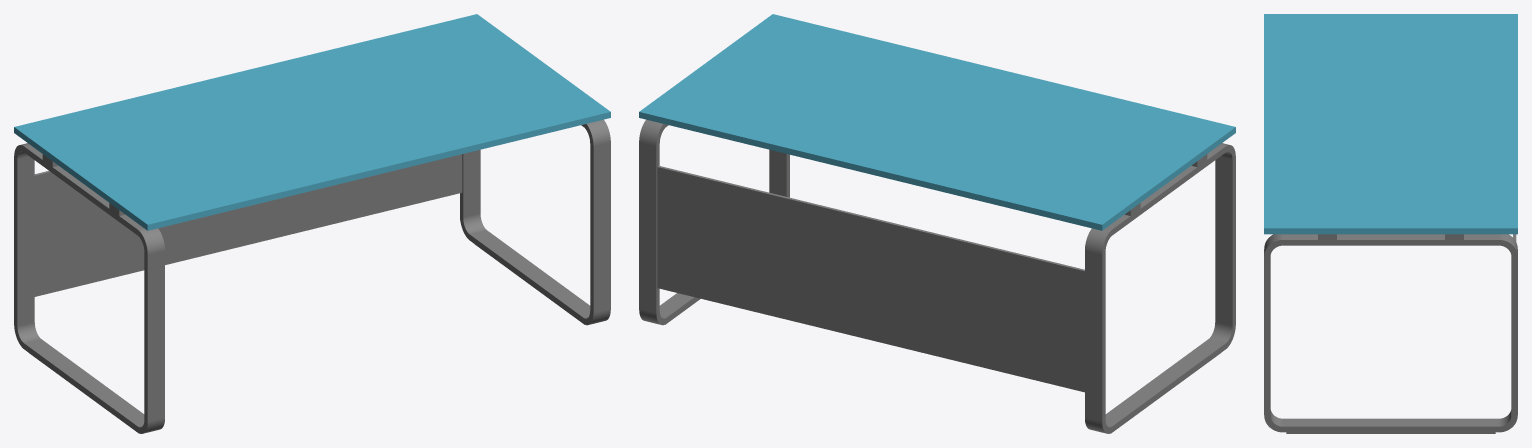
File: legDesk160.fbx
3 views of the same model, side by side, from view 1: azimuth 30°, elevation 25°; view 2: azimuth 150°, elevation 25°; view 3: azimuth 270°, elevation 25° (orthographic). The views are drawn at different scales.
Visible parts, largest first — view 1: legDesk160; view 2: legDesk160; view 3: legDesk160.
Boxes of the visible parts, left/top/right/bottom form: legDesk160: left=14, top=14, right=610, bottom=433; legDesk160: left=639, top=14, right=1235, bottom=433; legDesk160: left=1264, top=14, right=1517, bottom=433.
Bounding box in the file's own units: 160 × 72 × 80.
